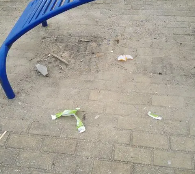garbage: (44, 100, 89, 133), (135, 109, 169, 121), (115, 50, 139, 64)
